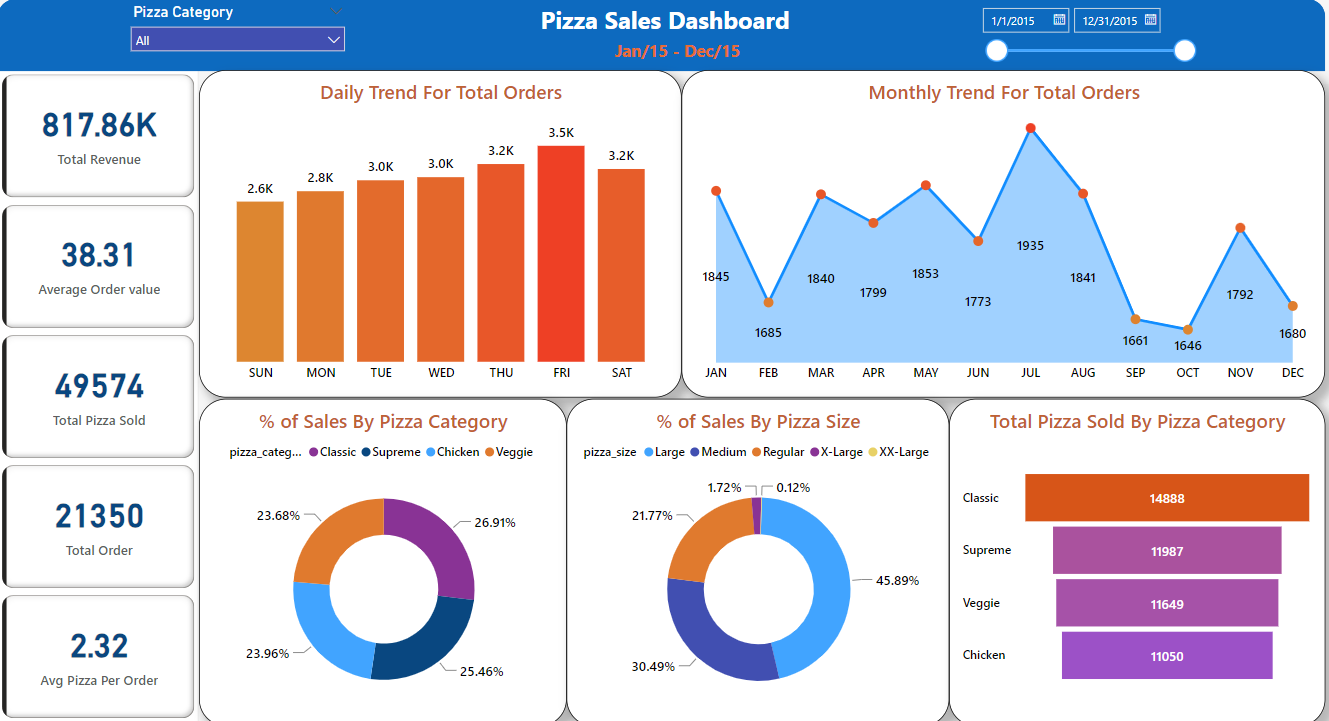

The dashboard page shown, as its layout file describes it:
{"tool":"powerbi","page":{"name":"Pizza Sale Dashboard","canvas":[1500,820],"ordinal":0},"visuals":[{"type":"cardVisual","fields":{"Data":["pizzas.Total Revenue","pizzas.Average Order value","pizzas.Total Pizza Sold","pizzas.Total Order","pizzas.Avg Pizza Per Order"]},"box":[9.7,89.1,224.1,729.5],"z":0},{"type":"shape","box":[9.7,9.7,1478.5,80.7],"z":1000},{"type":"textbox","box":[601.4,9.7,310.5,52.9],"z":2000},{"type":"textbox","box":[691.3,50.7,184.1,39.1],"z":3000},{"type":"columnChart","title":"Daily Trend For Total Orders","fields":{"Category":["pizzas.Day Name 2"],"Y":["pizzas.Total Order"]},"box":[233.9,89.1,537.4,364.8],"z":4000},{"type":"stackedAreaChart","title":"Monthly Trend For Total Orders","fields":{"Category":["pizzas.Month Name"],"Y":["pizzas.Total Order"]},"box":[771.3,89.1,717,364.8],"z":5000},{"type":"donutChart","title":"% of Sales  By Pizza Category","fields":{"Y":["pizzas.Total Revenue"],"Category":["pizzas.pizza_category"]},"box":[233.9,455.2,409.3,364.8],"z":6000},{"type":"donutChart","title":"% of Sales  By Pizza Size","fields":{"Y":["pizzas.Total Revenue"],"Category":["pizzas.pizza_size"]},"box":[643.2,455.2,426,364.8],"z":7000},{"type":"funnel","title":"Total Pizza Sold By Pizza Category","fields":{"Category":["pizzas.pizza_category"],"Y":["pizzas.Total Pizza Sold"]},"box":[1069.2,455.2,419,364.8],"z":8000},{"type":"slicer","fields":{"Values":["pizzas.pizza_category"]},"box":[147.6,9.7,258.9,80.7],"z":9000},{"type":"slicer","fields":{"Values":["pizzas.order_date"]},"box":[1094.3,9.7,258.9,80.7],"z":10000}]}

Visuals, with their boxes in screenshot pixels (x1, y1, x2, y2), scaled from the page's 1500x820 canvas onto the 1329x721 screenshot:
cardVisual - pizzas.Total Revenue x pizzas.Average Order value: (9, 78, 207, 720)
shape: (9, 9, 1319, 79)
textbox: (533, 9, 808, 55)
textbox: (612, 45, 776, 79)
"Daily Trend For Total Orders" columnChart: (207, 78, 683, 399)
"Monthly Trend For Total Orders" stackedAreaChart: (683, 78, 1319, 399)
"% of Sales  By Pizza Category" donutChart: (207, 400, 570, 720)
"% of Sales  By Pizza Size" donutChart: (570, 400, 947, 720)
"Total Pizza Sold By Pizza Category" funnel: (947, 400, 1319, 720)
slicer - pizzas.pizza_category: (131, 9, 360, 79)
slicer - pizzas.order_date: (970, 9, 1199, 79)
